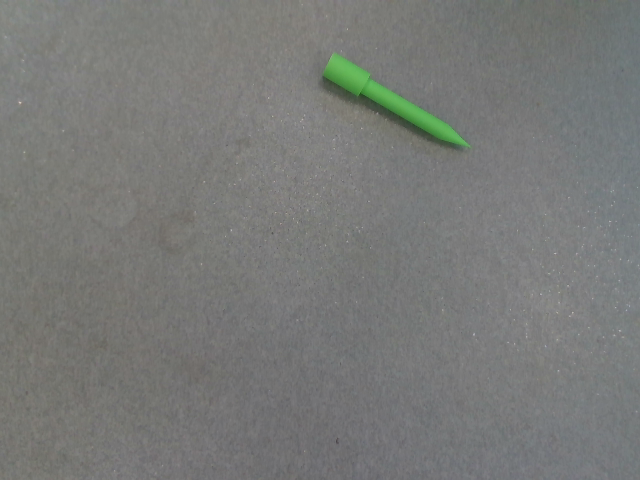Probe: (317, 47, 478, 159)
